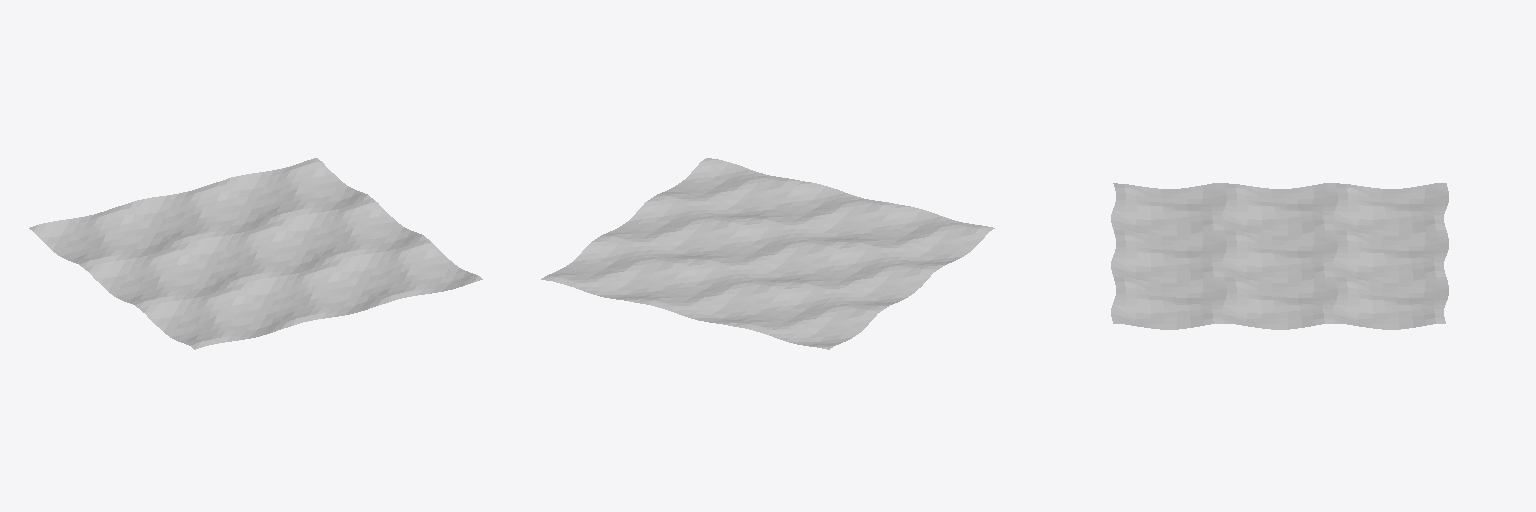
File: ocean_000290.obj
3 renders of one model, left to right at view 1: azimuth 30°, elevation 25°; view 2: azimuth 150°, elevation 25°; view 3: azimuth 270°, elevation 25°, orthographic.
Visible parts, largest first — view 1: Ocean_Plan.001; view 2: Ocean_Plan.001; view 3: Ocean_Plan.001.
Part boxes in pixels (x1,y1,x2,y2): Ocean_Plan.001: (29, 158, 482, 349); Ocean_Plan.001: (541, 158, 994, 349); Ocean_Plan.001: (1111, 183, 1448, 329).
Bounding box in the file's own units: 109292 × 2410 × 110686.